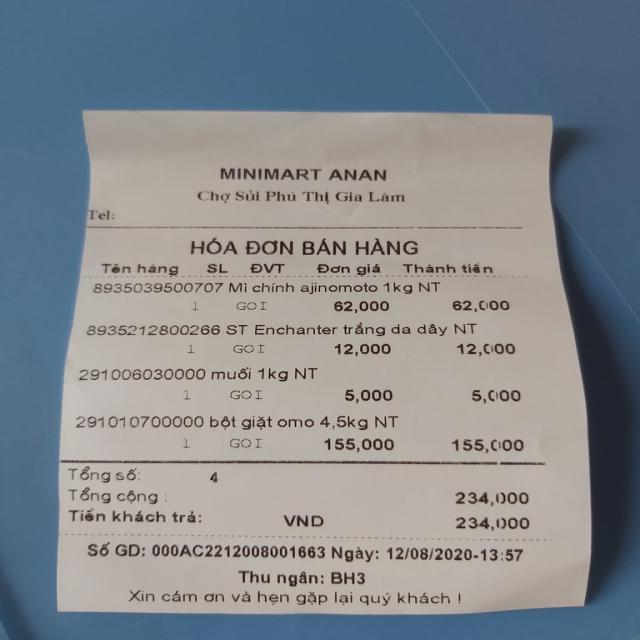Date: (385, 546, 473, 564)
Store_Name: (213, 164, 391, 186)
amount_number: (455, 488, 534, 508)
label_total: (63, 486, 166, 507)
